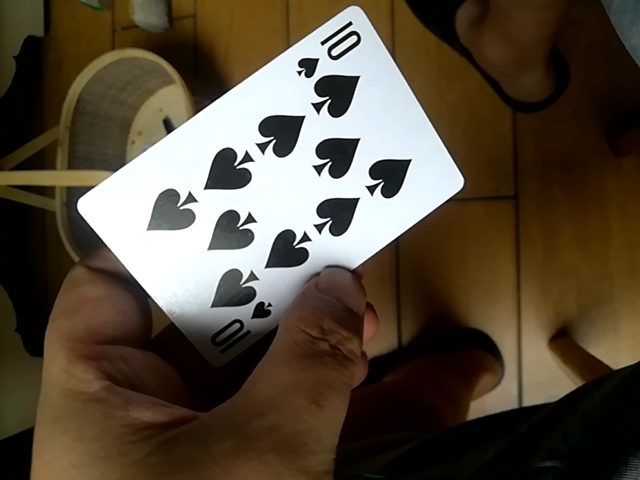ht 10: (79, 6, 463, 363)
